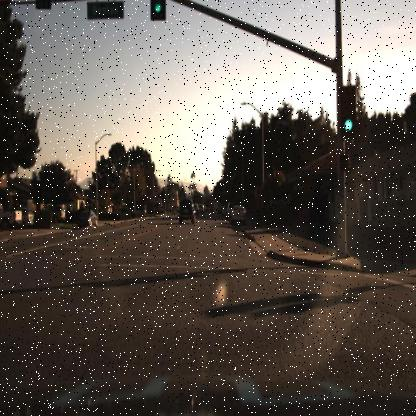car: (39, 200, 67, 228), (40, 204, 69, 230), (75, 203, 104, 229), (179, 196, 197, 226), (232, 202, 247, 229)
